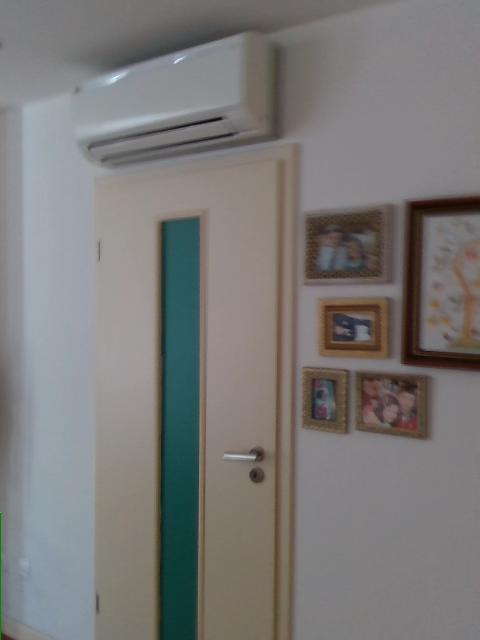door: (88, 142, 300, 639)
